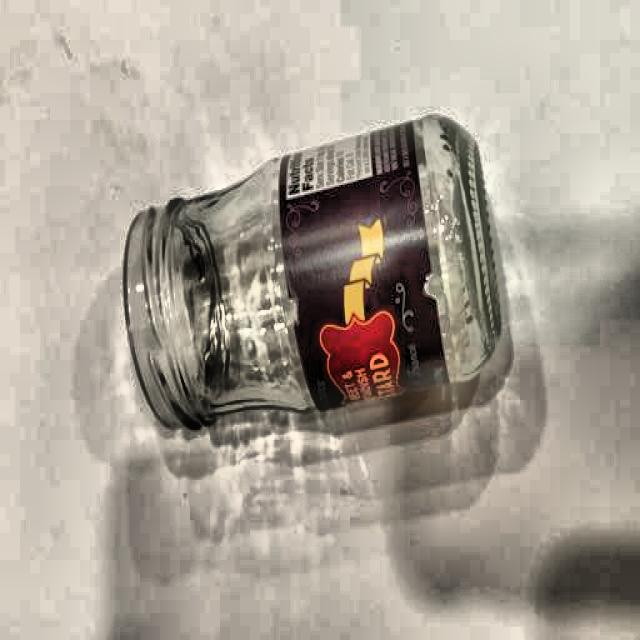glass: (124, 111, 509, 426)
